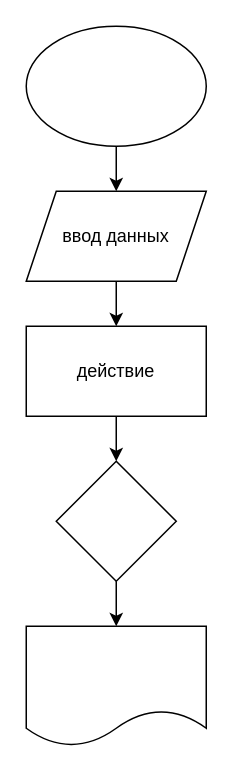
Some shapes in this 233 by 773 pixel diagram are drawn without their labels. The centre of each missing label's shape, as x and y in pixels:
"start" goes at point (115, 85).
"условие" goes at point (115, 520).
